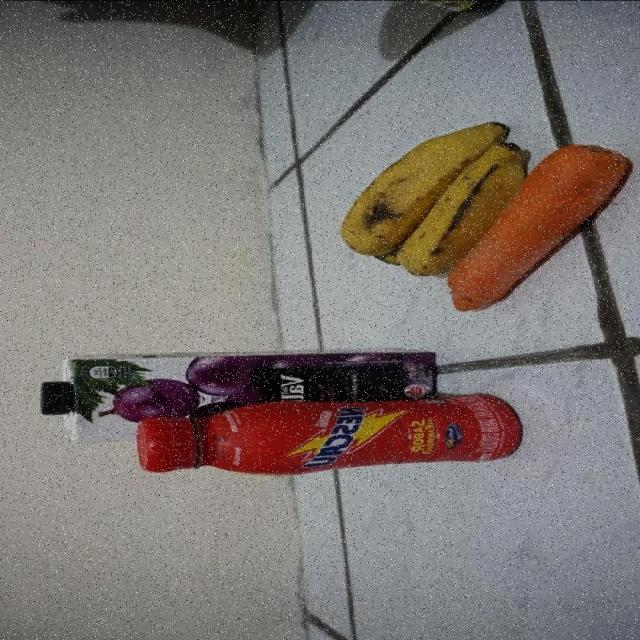Banana: (337, 121, 479, 275)
Carrot: (485, 141, 635, 306)
ChocolateMilk: (139, 395, 526, 474)
